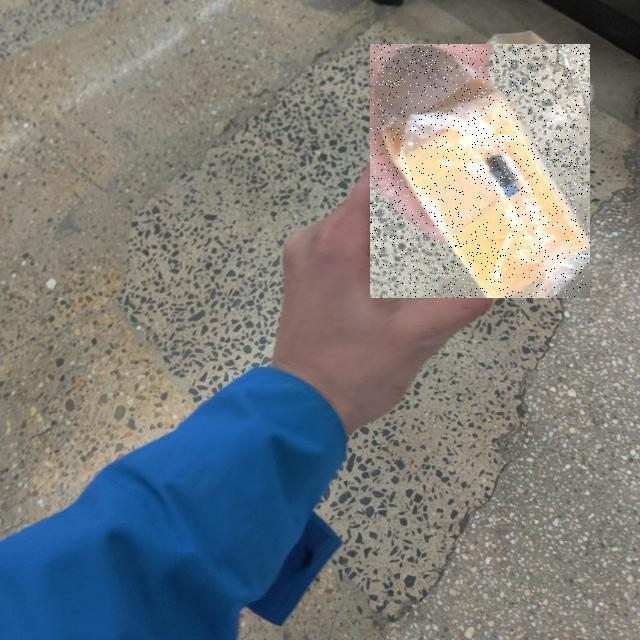cheese: (76, 150, 640, 448)
